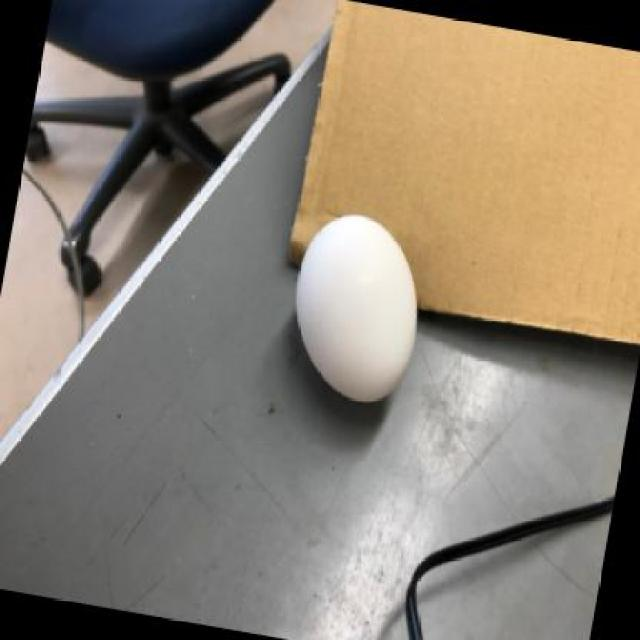egg: (294, 204, 424, 403)
